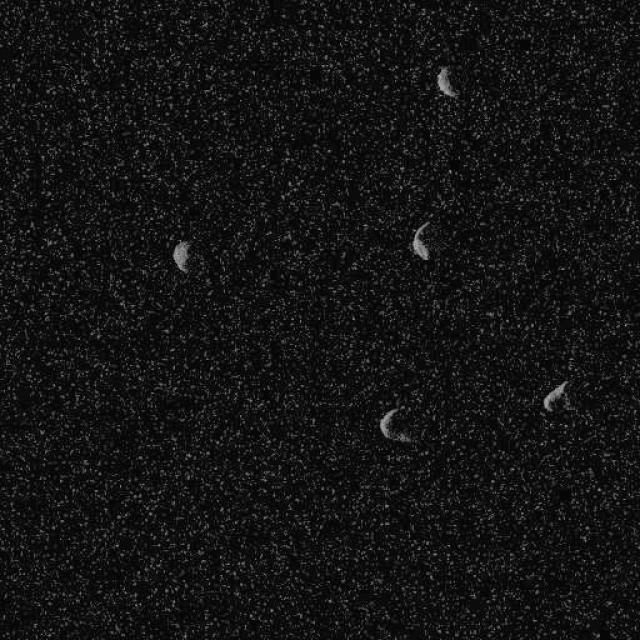D2: (378, 406, 413, 445), (541, 378, 569, 412), (410, 220, 430, 260), (435, 65, 459, 97), (171, 238, 191, 272)
